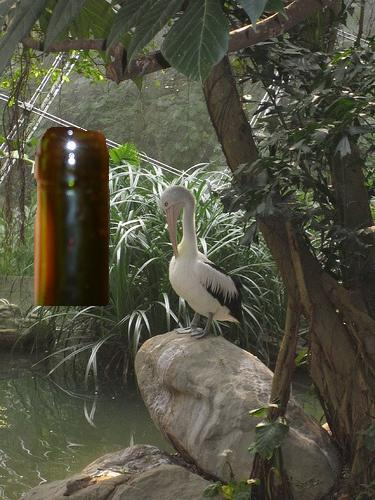tampered: (34, 128, 110, 306)
